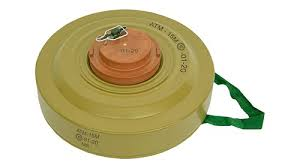car: (24, 1, 271, 168)
